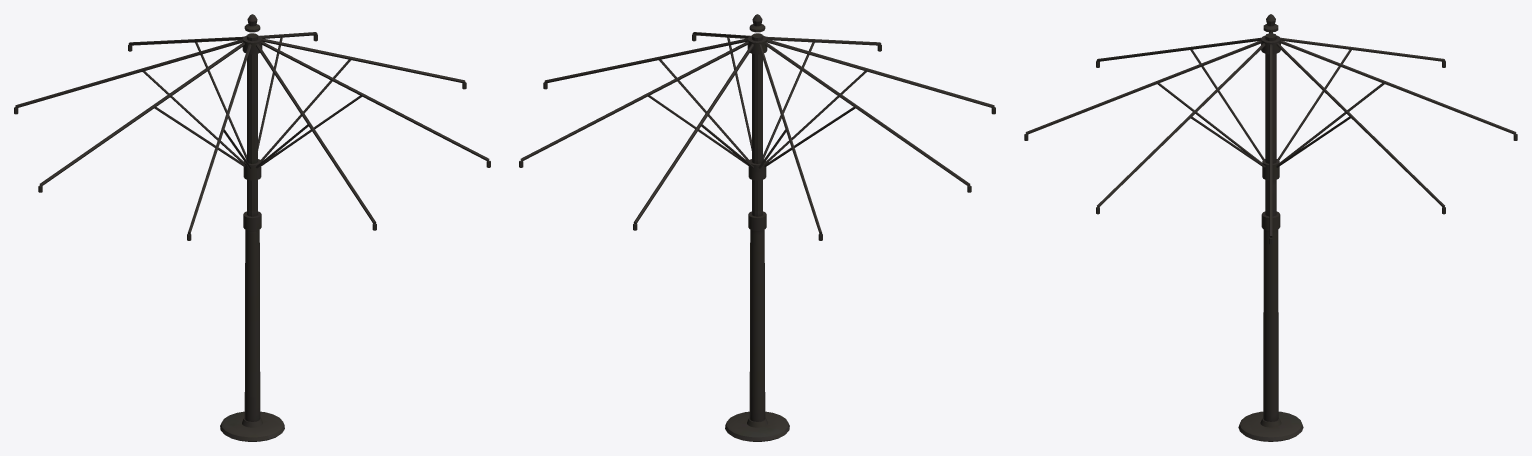
The model's file is roof_parasol.glb.
3 views of the same model, side by side, from view 1: azimuth 30°, elevation 25°; view 2: azimuth 150°, elevation 25°; view 3: azimuth 270°, elevation 25° (orthographic).
Parts seen in each view (by area): view 1: roof_parasol; view 2: roof_parasol; view 3: roof_parasol.
Boxes of the visible parts, left/top/right/bottom form: roof_parasol: left=14, top=14, right=490, bottom=441; roof_parasol: left=519, top=14, right=995, bottom=441; roof_parasol: left=1024, top=14, right=1517, bottom=441.
Bounding box in the file's own units: 3.48 × 3.23 × 3.48.
Materials: 1 (1 with a texture image).
